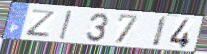3: (84, 12, 110, 43)
4: (168, 17, 192, 50)
7: (117, 13, 140, 45)
I: (151, 15, 169, 49), (58, 10, 73, 41)
Z: (25, 8, 58, 38)
